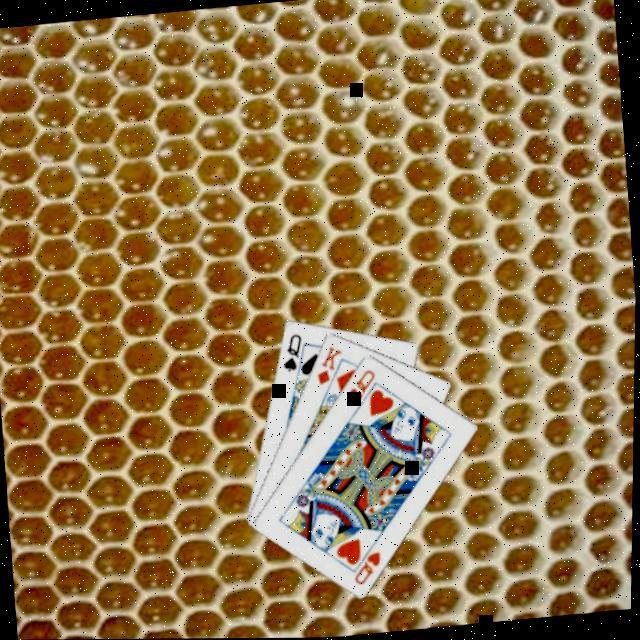KD: (310, 343, 348, 389)
QH: (346, 540, 387, 589), (343, 366, 380, 407)
QS: (277, 330, 308, 376)
